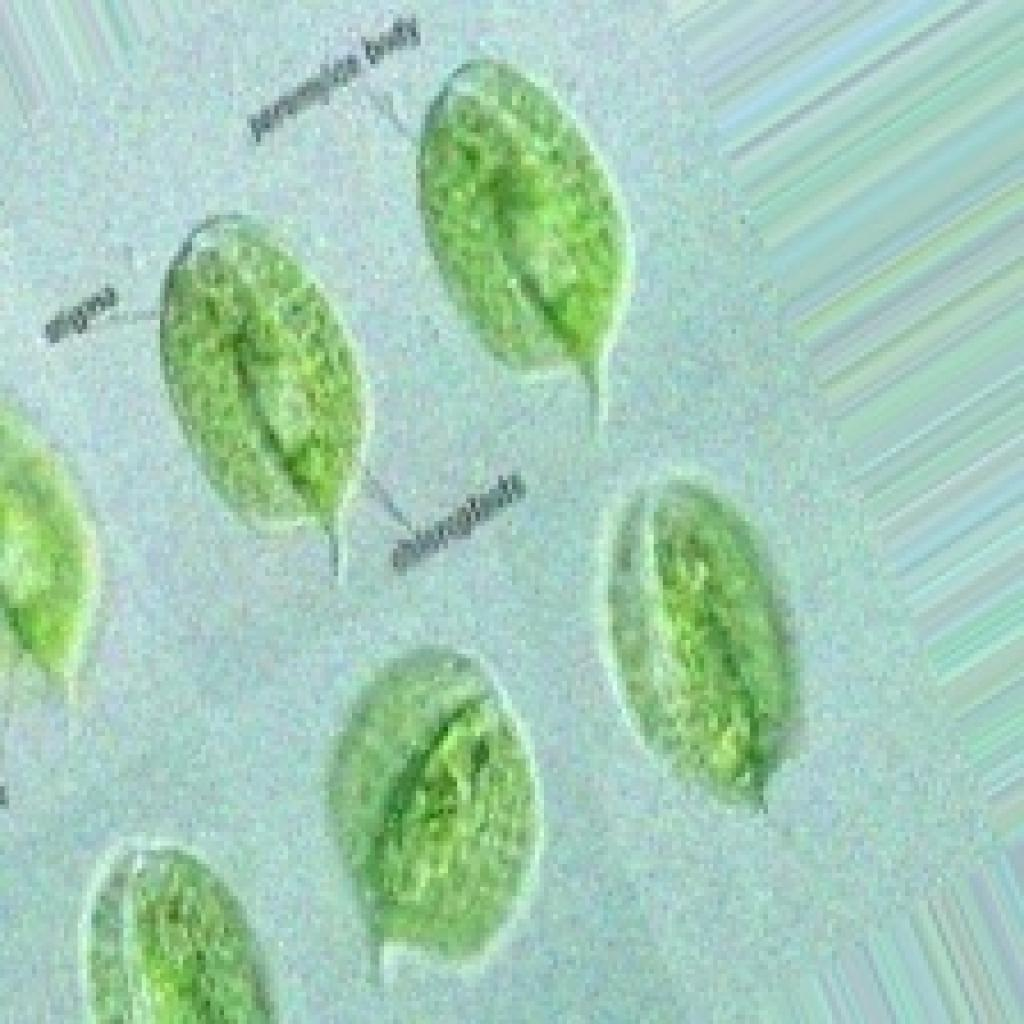Microalgae: (35, 176, 447, 560), (346, 31, 732, 429), (286, 640, 590, 1004), (594, 471, 805, 814), (22, 798, 270, 1024)
